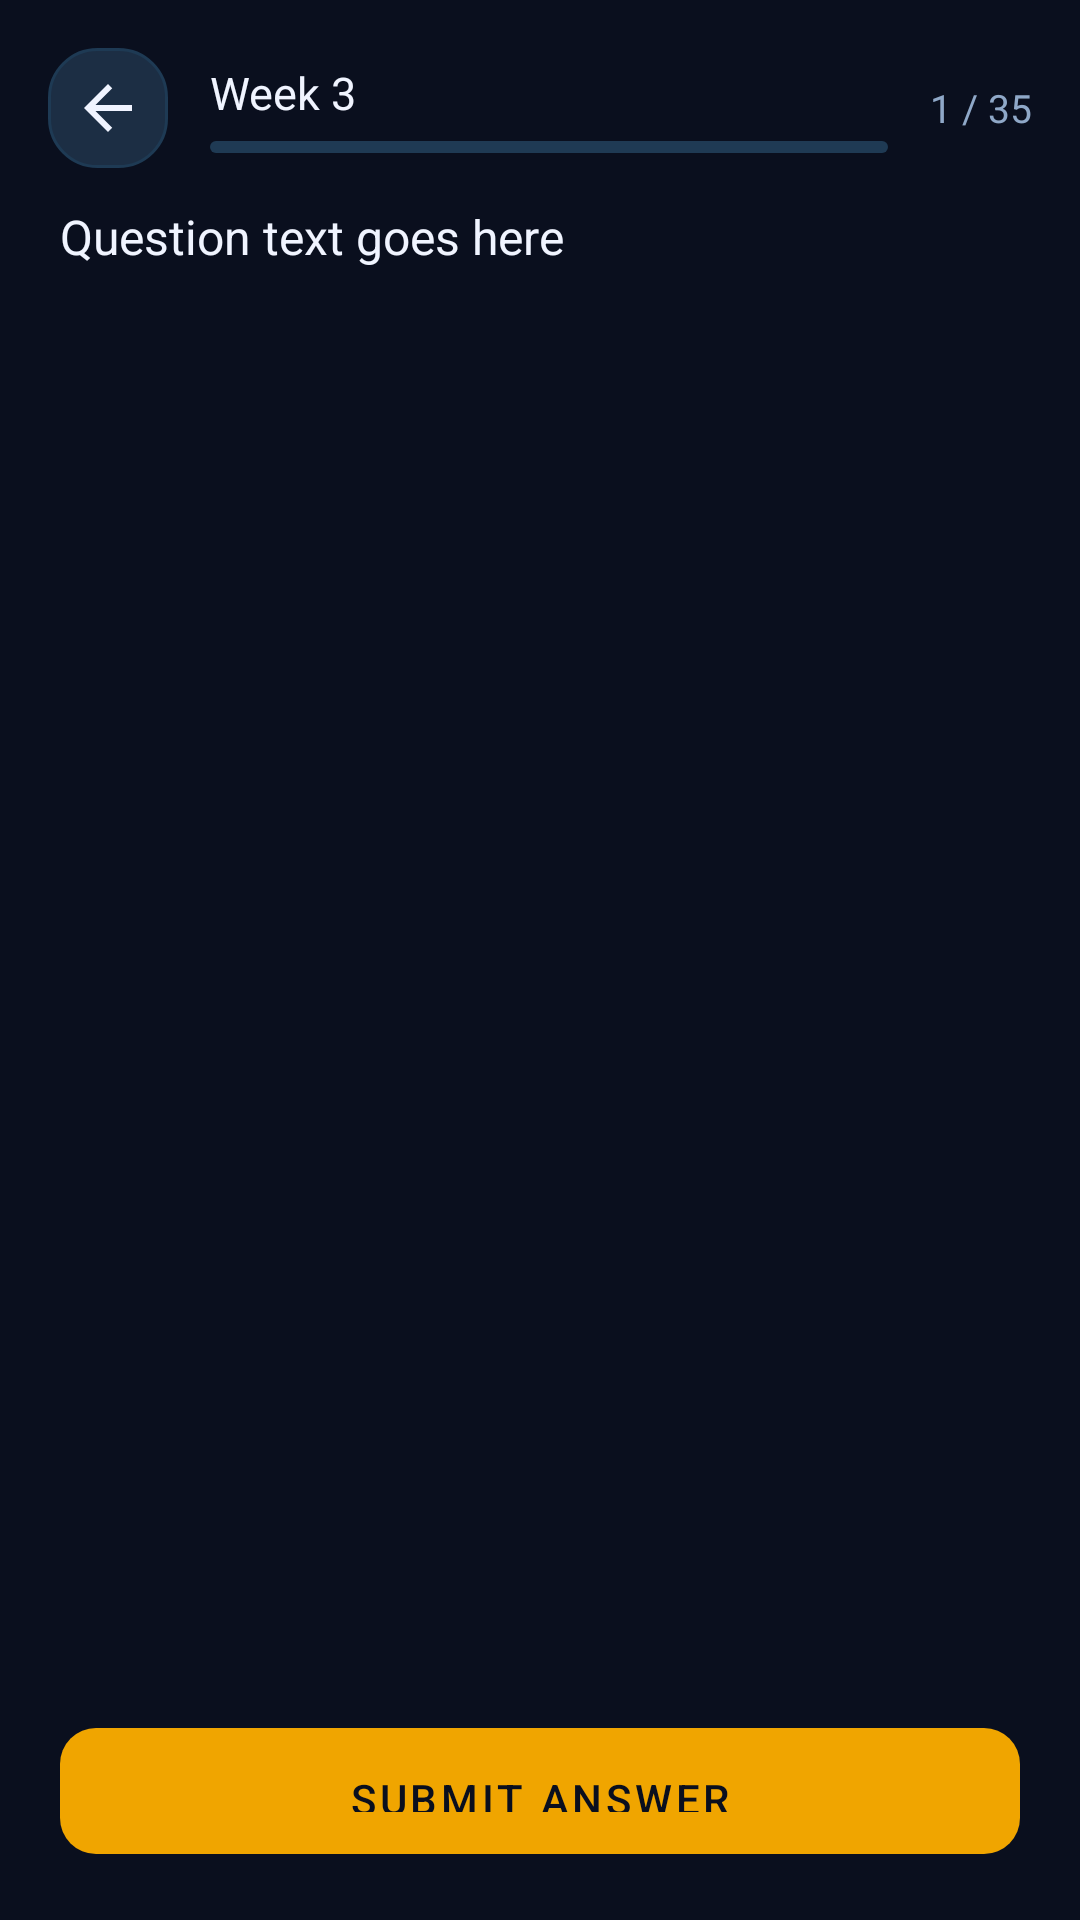

Screen size 1080×1920. Icon name, then its center in pixels as point (x, y):
Back: point (108, 108)
